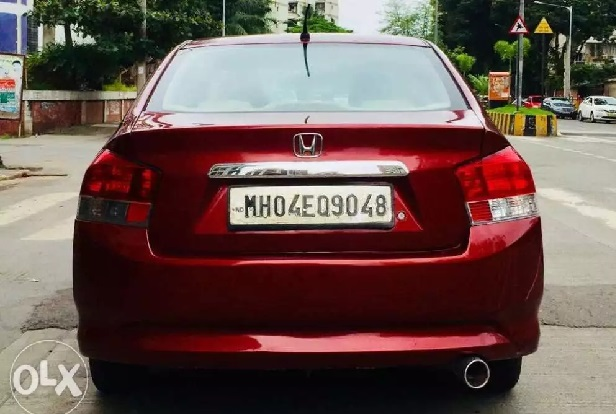licenseplate: (224, 181, 397, 231)
